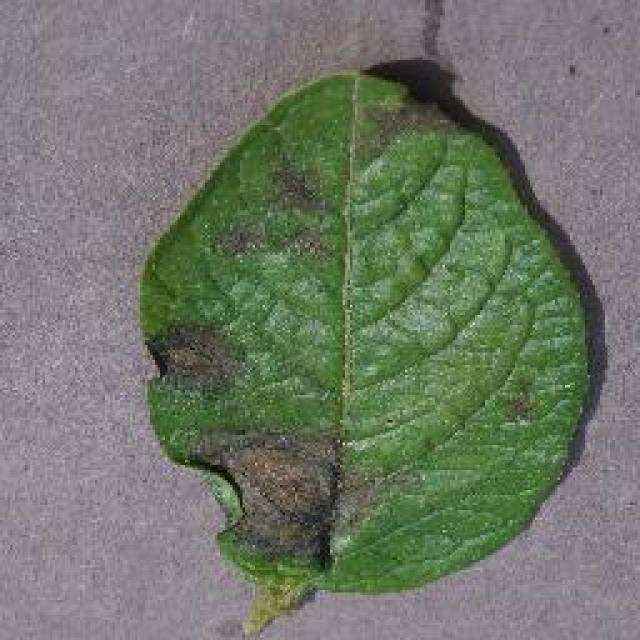late_blight: (132, 55, 602, 637)
